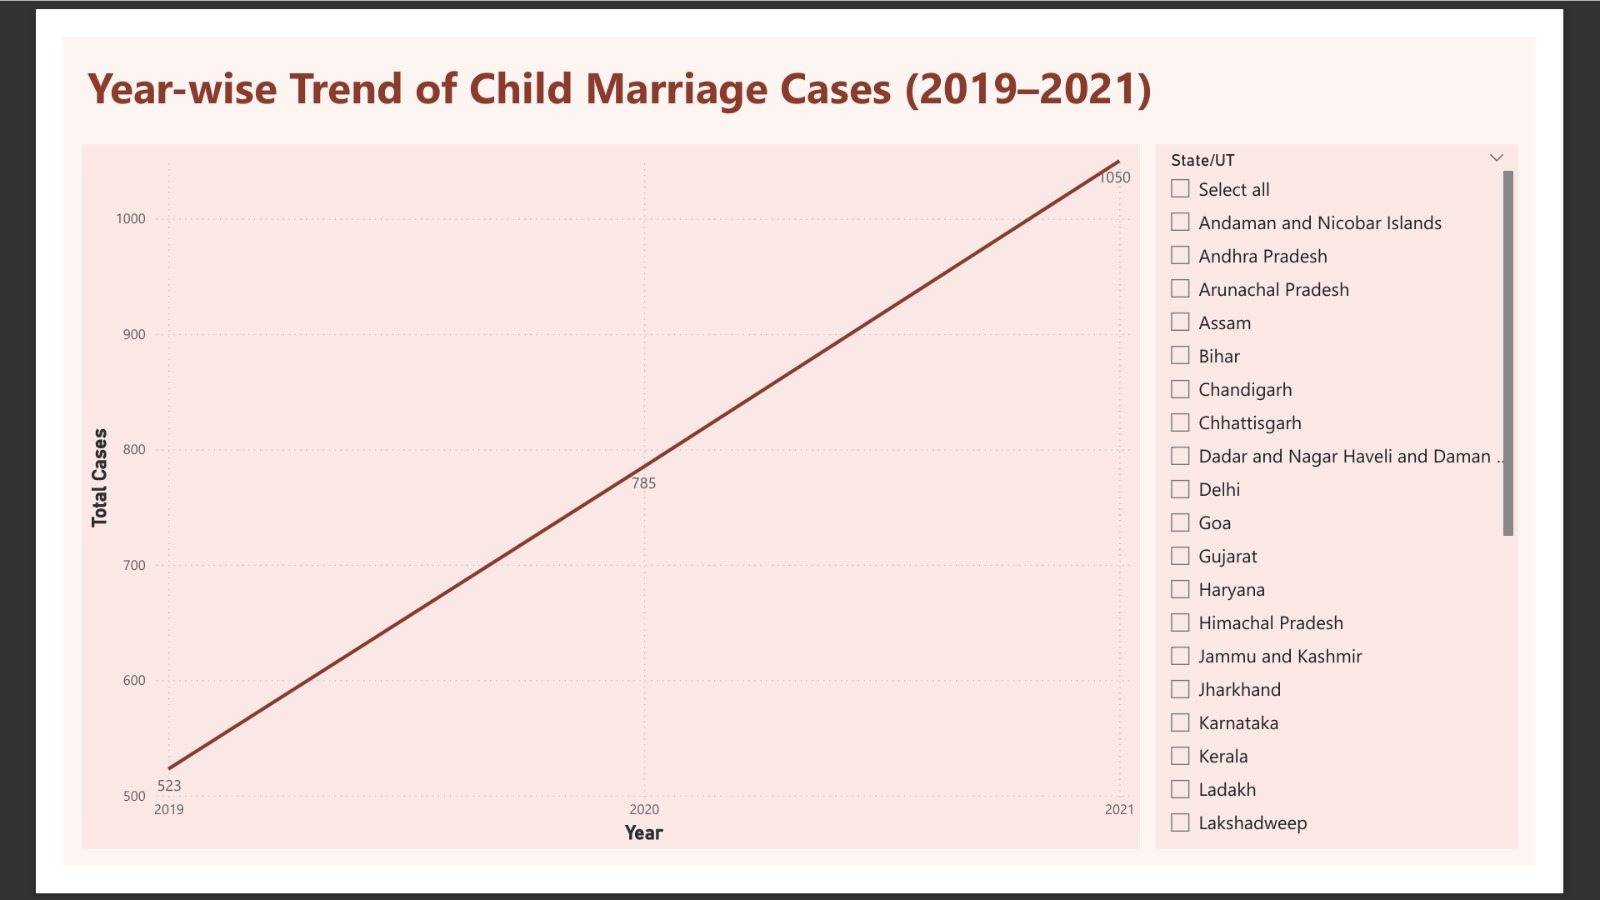

Layout of this report page (visuals, bound fields, positions):
{"tool":"powerbi","page":{"name":"Year-wise","canvas":[1280,720],"ordinal":2},"visuals":[{"type":"lineChart","fields":{"Category":["Child Marriage Data.Year"],"Y":["Child Marriage Data.Total_CR"]},"box":[16.2,93.9,919.7,612.1],"z":0},{"type":"textbox","box":[16.2,13,945.6,61.5],"z":1000},{"type":"slicer","fields":{"Values":["Child Marriage Data.State/UT"]},"box":[950.5,93.9,314.1,612.1],"z":2000}]}

Visuals, with their boxes in screenshot pixels (x1, y1, x2, y2), scaled from the page's 1280x720 canvas onto the 1600x900 screenshot:
lineChart - Child Marriage Data.Year x Child Marriage Data.Total_CR: Rect(20, 117, 1170, 882)
textbox: Rect(20, 16, 1202, 93)
slicer - Child Marriage Data.State/UT: Rect(1188, 117, 1581, 882)
